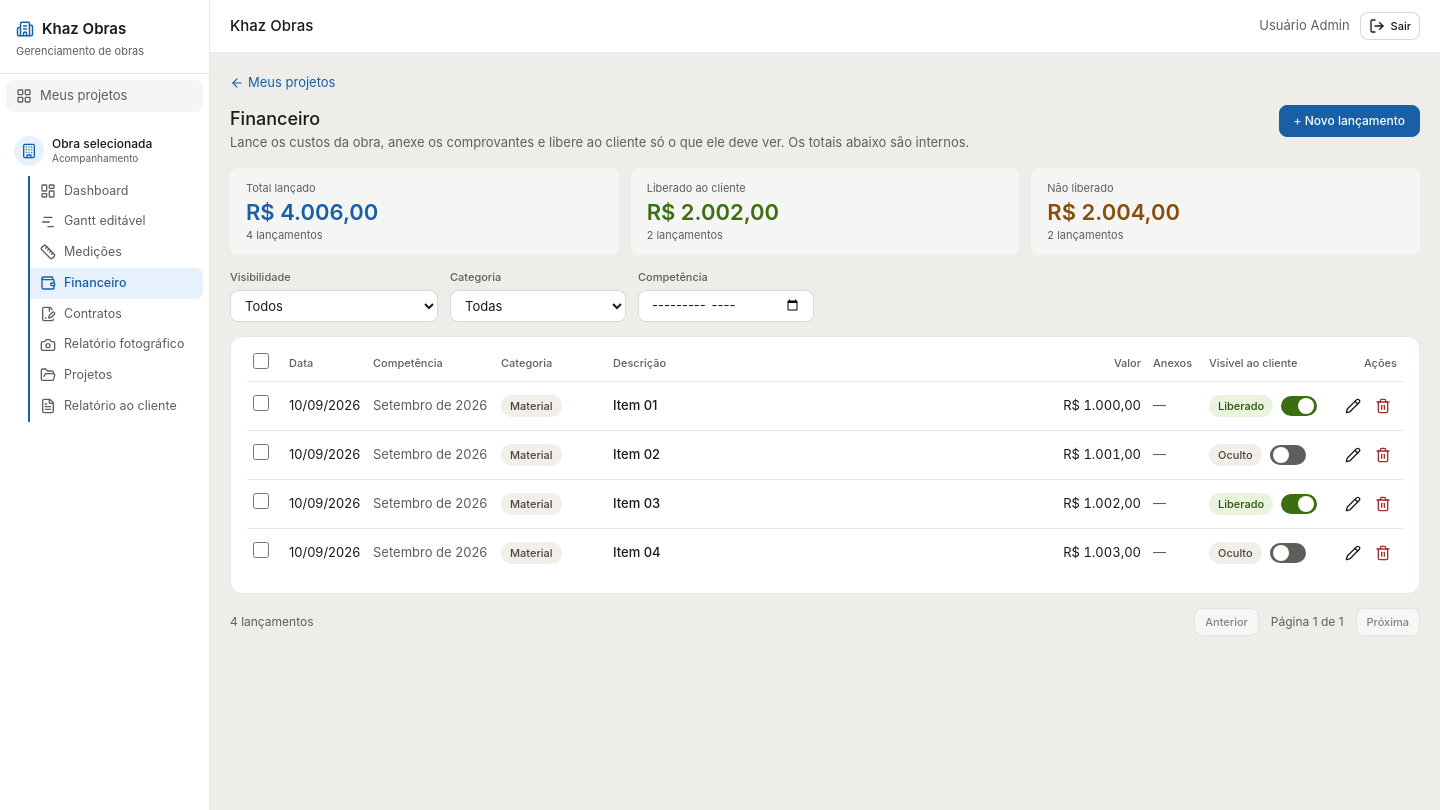
Test: Financeiro (admin) - seleção › "Limpar seleção" desmarca tudo
The image size is (1440, 810).
Expected: the table is shown, [247,352,1403,577]
Click the checkbox named "Selecionar todos os lançamentos desta página". click: x=261, y=360
box: [253,352,269,368]
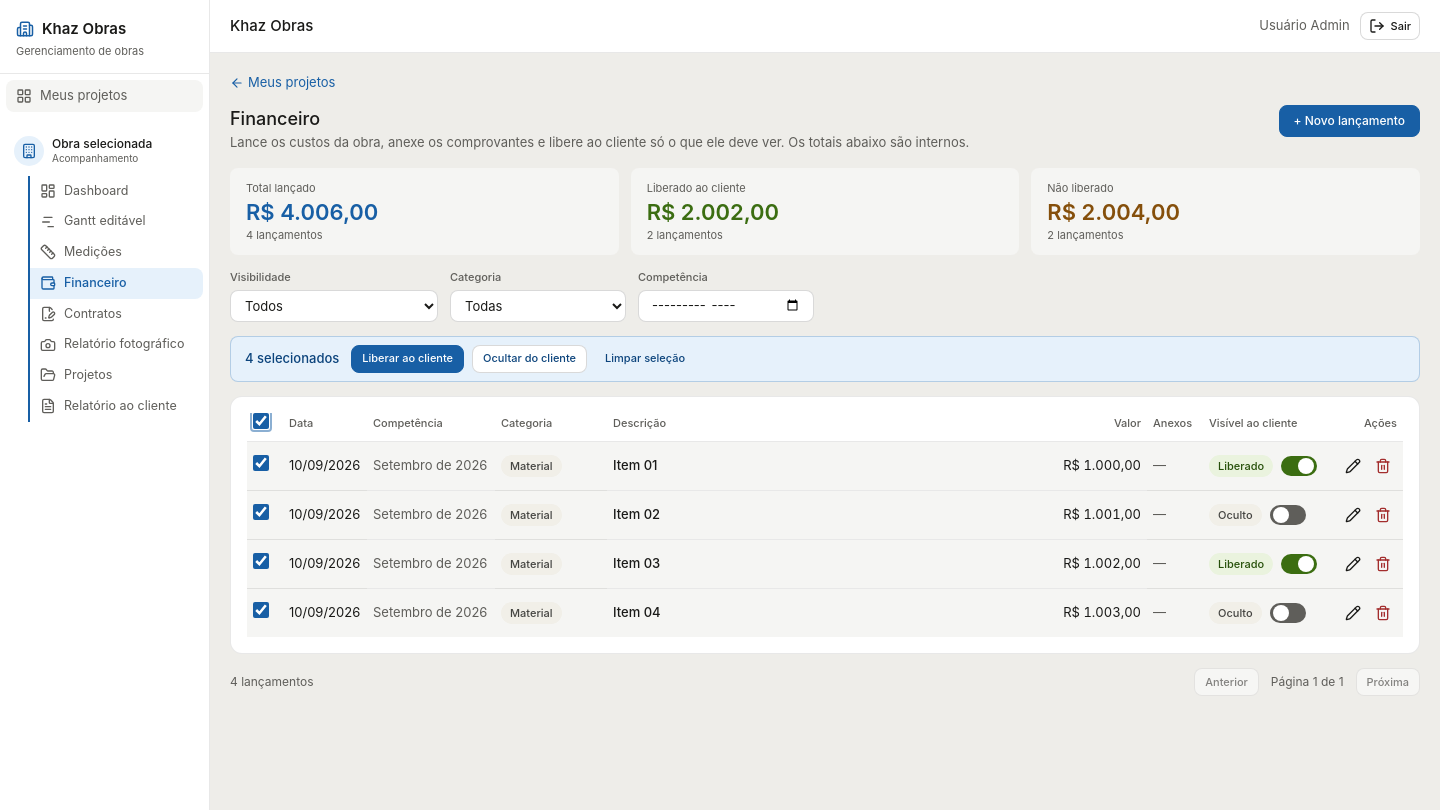
Click the button "Limpar seleção". click: x=645, y=358
box: [595,344,695,372]
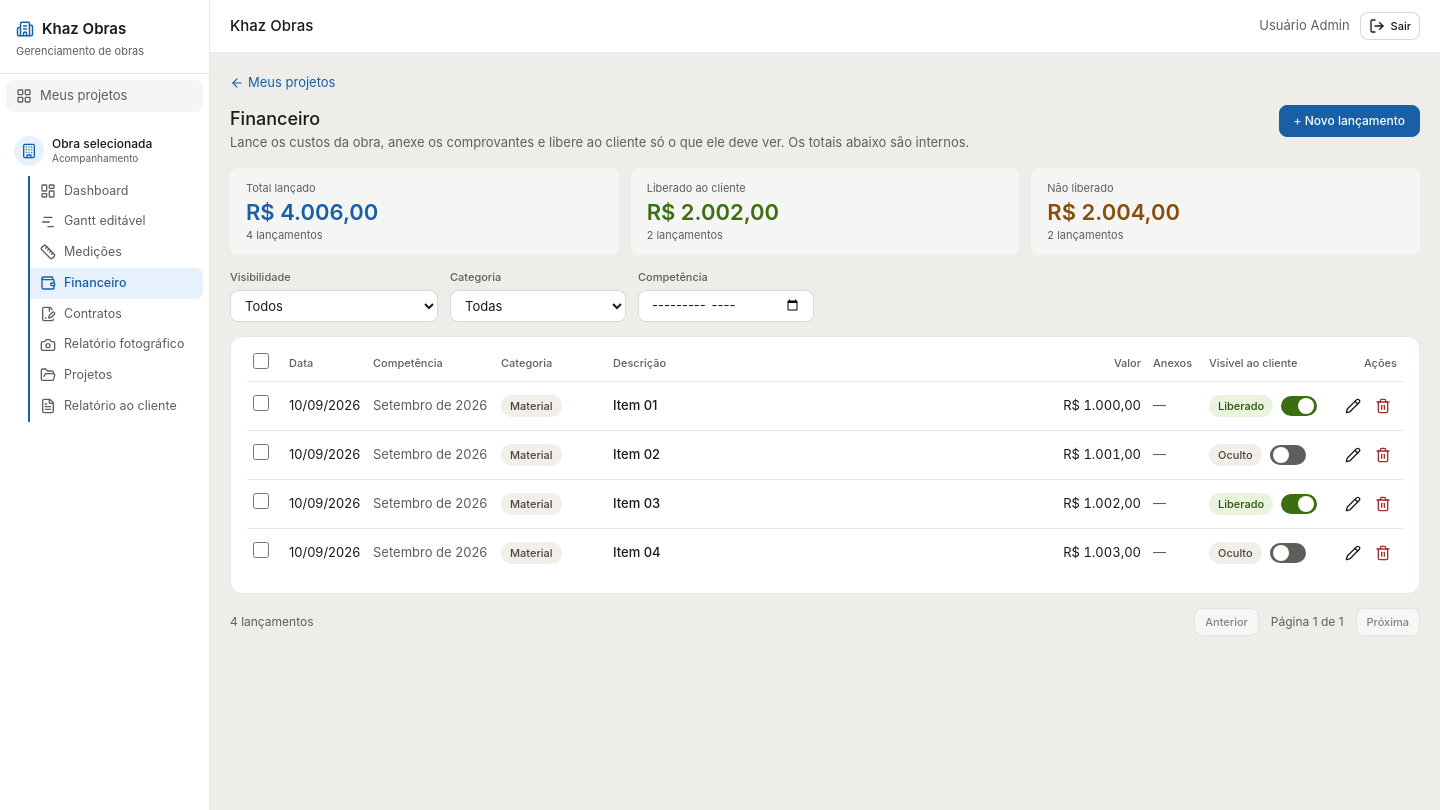
Expected: the checkbox named "Selecionar lançamento: Item 01" is not checked, [253,395,269,411]
